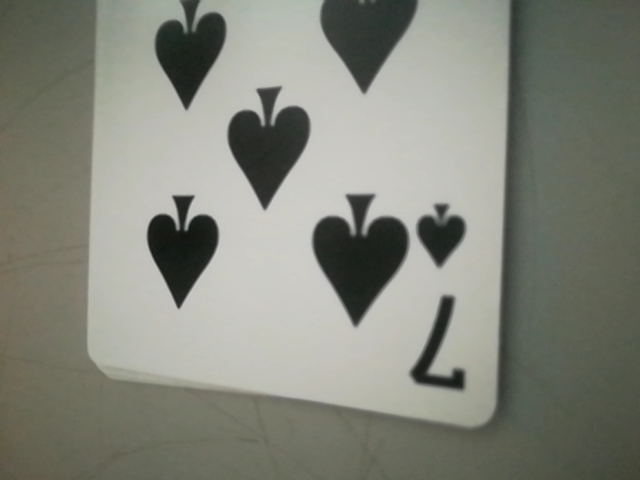ht 7: (409, 197, 477, 392)
